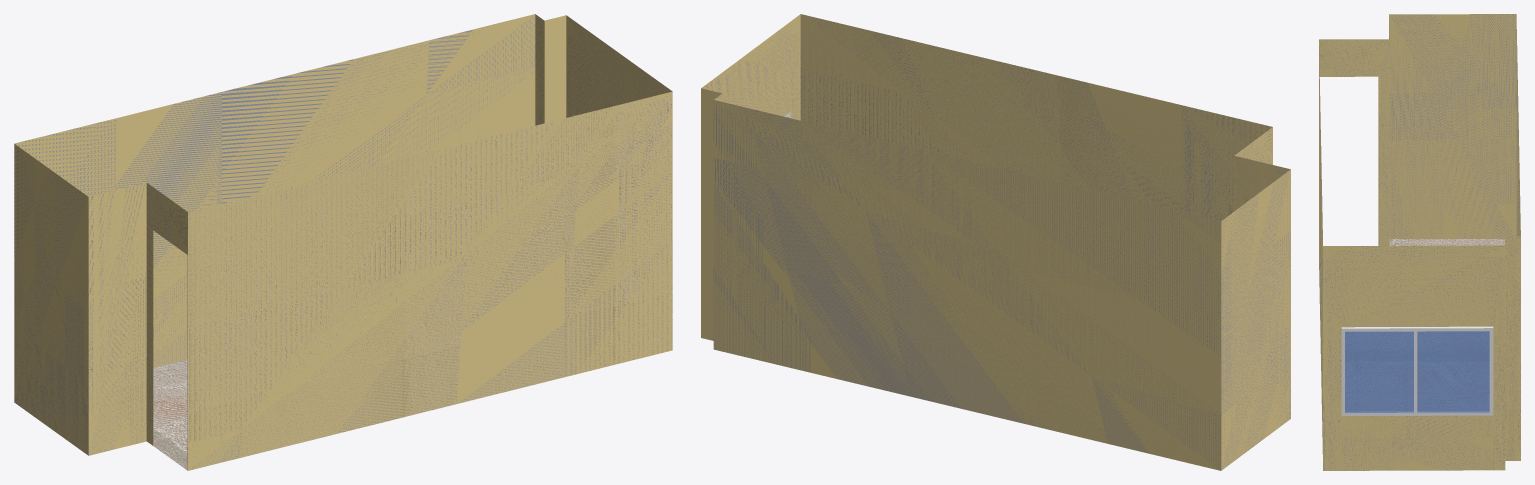
Rendered from DES005.obj.
3 views of the same model, side by side, from view 1: azimuth 30°, elevation 25°; view 2: azimuth 150°, elevation 25°; view 3: azimuth 270°, elevation 25° (orthographic). The views are drawn at different scales.
Visible parts, largest first — view 1: Mesh6 DES005 Model; view 2: Mesh6 DES005 Model; view 3: Mesh6 DES005 Model, Mesh1 ventana2_1 DES005 Model.
Part boxes in pixels (x1,y1,x2,y2): Mesh6 DES005 Model: (14,14,672,470); Mesh6 DES005 Model: (701,14,1290,470); Mesh6 DES005 Model: (1319,14,1520,470); Mesh1 ventana2_1 DES005 Model: (1341,326,1493,415).
Bounding box in the file's own units: 8.01 × 3.6 × 2.93.
Materials: 7 (2 with a texture image).
